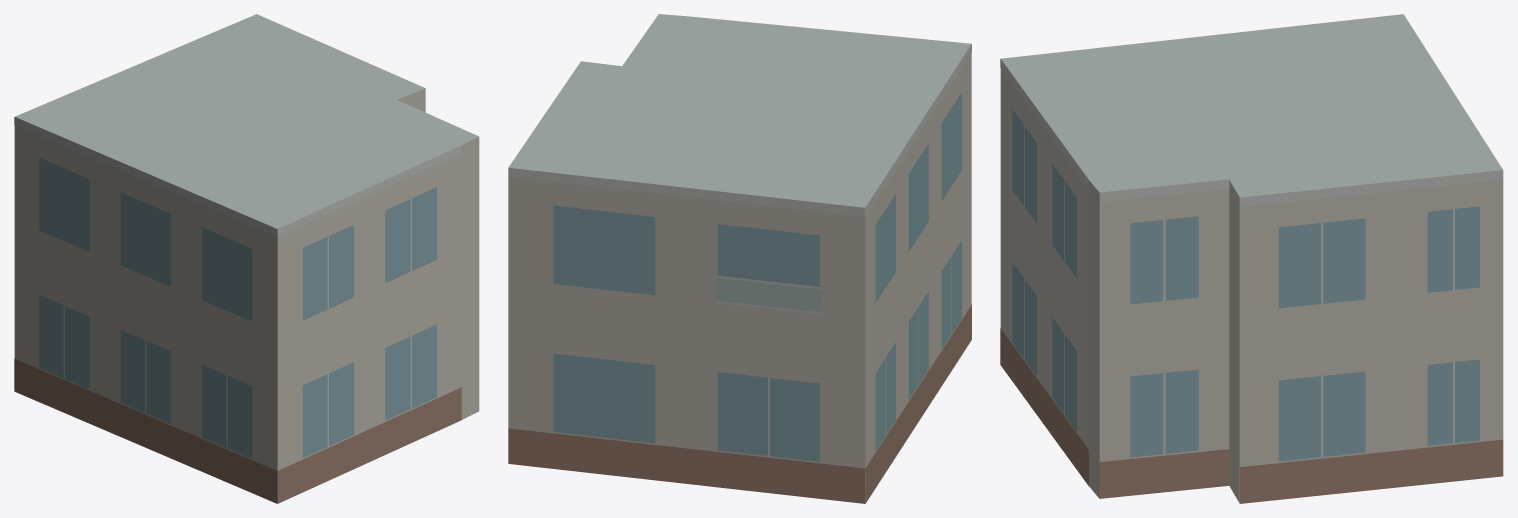
The model's file is survey-upis-32920893.glb.
The picture shows the model from 3 angles, left to right: view 1: azimuth 30°, elevation 25°; view 2: azimuth 150°, elevation 25°; view 3: azimuth 270°, elevation 25°; orthographic projection. The views are drawn at different scales.
Visible parts, largest first — view 1: survey-upis-32920893.tmp; view 2: survey-upis-32920893.tmp; view 3: survey-upis-32920893.tmp.
Boxes of the visible parts, x1,y1,x2,y2 form: survey-upis-32920893.tmp: (14,14,479,503); survey-upis-32920893.tmp: (508,14,971,503); survey-upis-32920893.tmp: (1000,14,1503,503).
Size of the model in its own units: 10.23 by 7.95 by 11.83.
